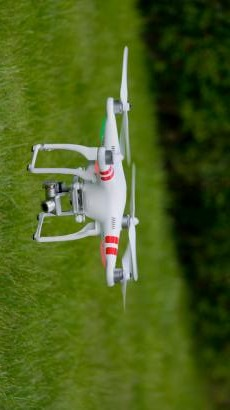drone: (26, 47, 140, 306)
